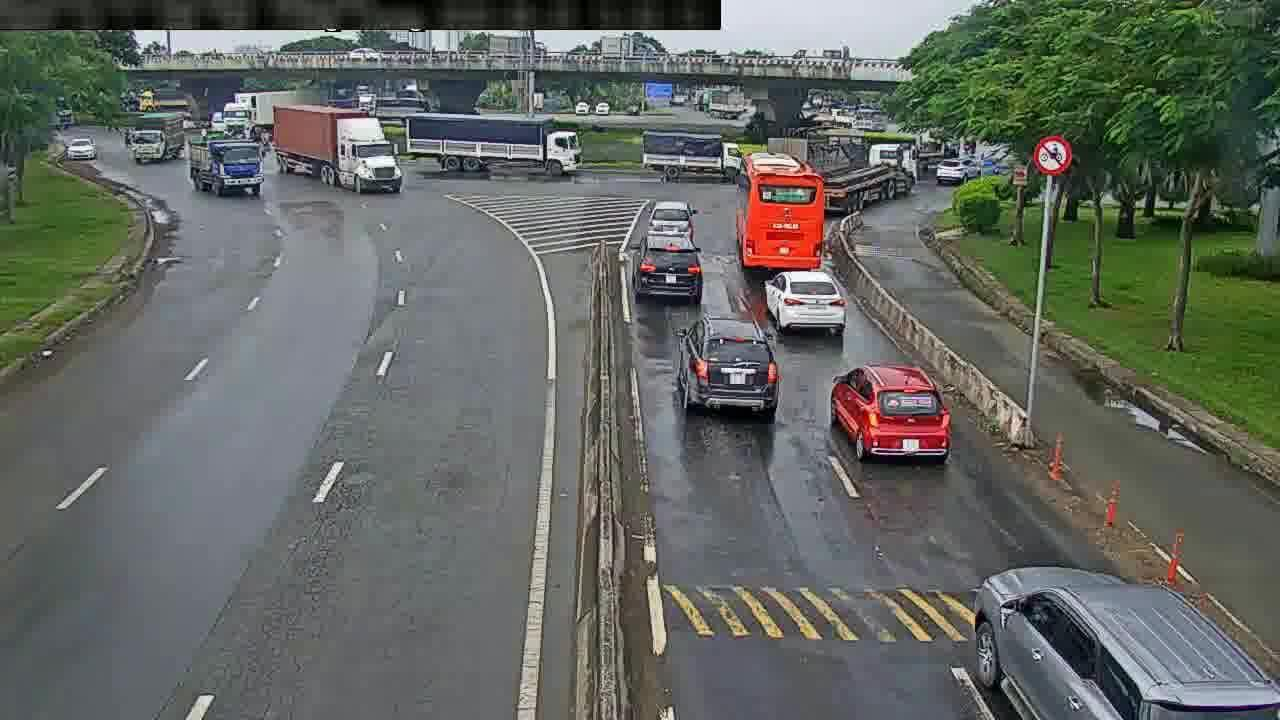14: (731, 153, 831, 273)
8: (273, 103, 415, 196), (405, 113, 586, 177), (640, 129, 750, 182), (181, 135, 266, 197), (130, 108, 182, 161)
container: (970, 549, 1271, 720), (828, 364, 954, 465), (678, 307, 780, 425), (759, 265, 849, 335), (626, 235, 707, 307), (645, 199, 696, 235), (935, 151, 982, 186)
